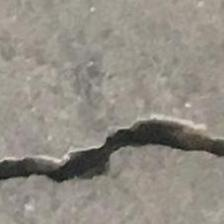Crack: (0, 107, 224, 203)
